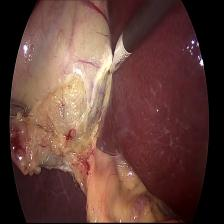Hook: (109, 28, 132, 76)
